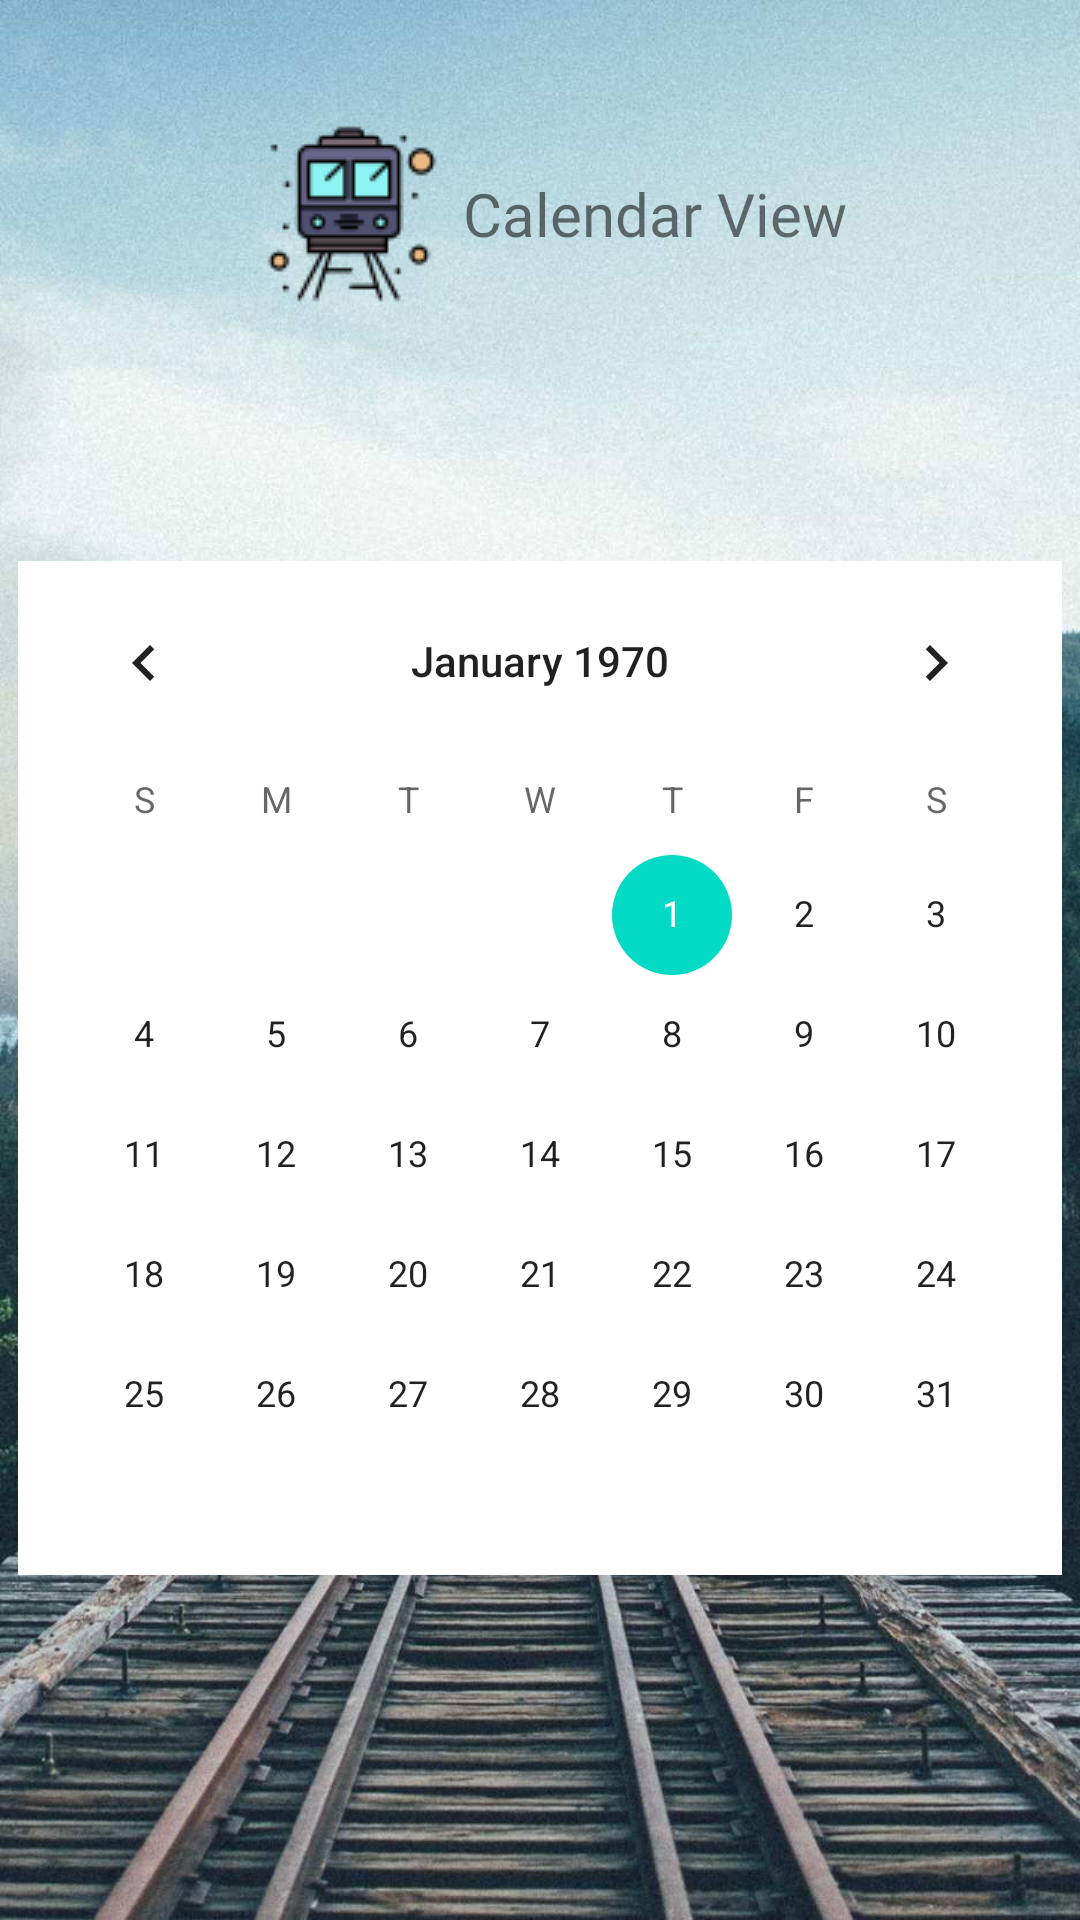

Where to tap for icons on this 1080 × 1920 app screen, as [x,y]:
toast train: [352,214]
